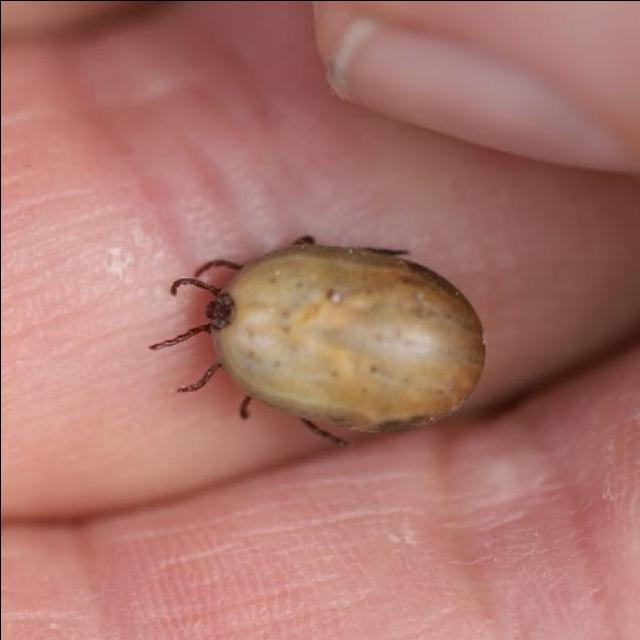Dermacentor Reticulatus-F-Fed: (149, 234, 487, 436)
